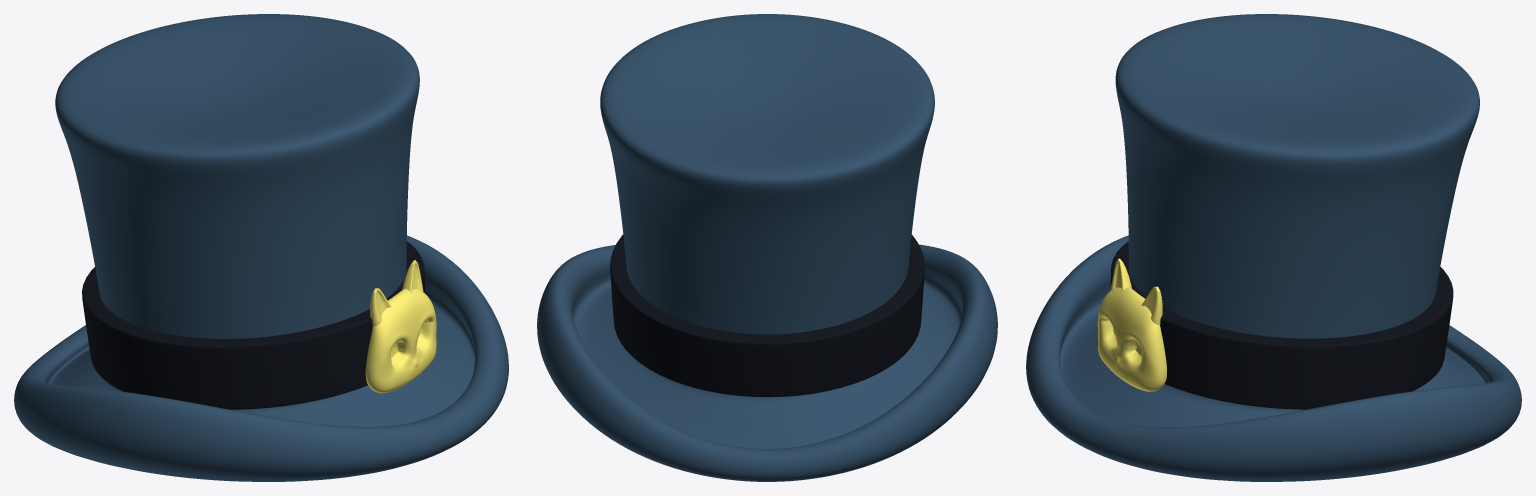
3 views of the same model, side by side, from view 1: azimuth 30°, elevation 25°; view 2: azimuth 150°, elevation 25°; view 3: azimuth 270°, elevation 25° (orthographic). The views are drawn at different scales.
Parts seen in each view (by area): view 1: 384, magician_hat_band, cap_symbol_002; view 2: 384, magician_hat_band; view 3: 384, magician_hat_band, cap_symbol_002.
Part boxes in pixels (x1=…): 384: x1=14, y1=14, x2=508, y2=481; magician_hat_band: x1=82, y1=241, x2=424, y2=409; cap_symbol_002: x1=365, y1=260, x2=436, y2=393; 384: x1=537, y1=14, x2=997, y2=481; magician_hat_band: x1=610, y1=234, x2=924, y2=397; 384: x1=1026, y1=14, x2=1521, y2=481; magician_hat_band: x1=1110, y1=241, x2=1453, y2=409; cap_symbol_002: x1=1097, y1=258, x2=1166, y2=391.
Size of the model in its own units: 32.18 by 31.91 by 25.13.
